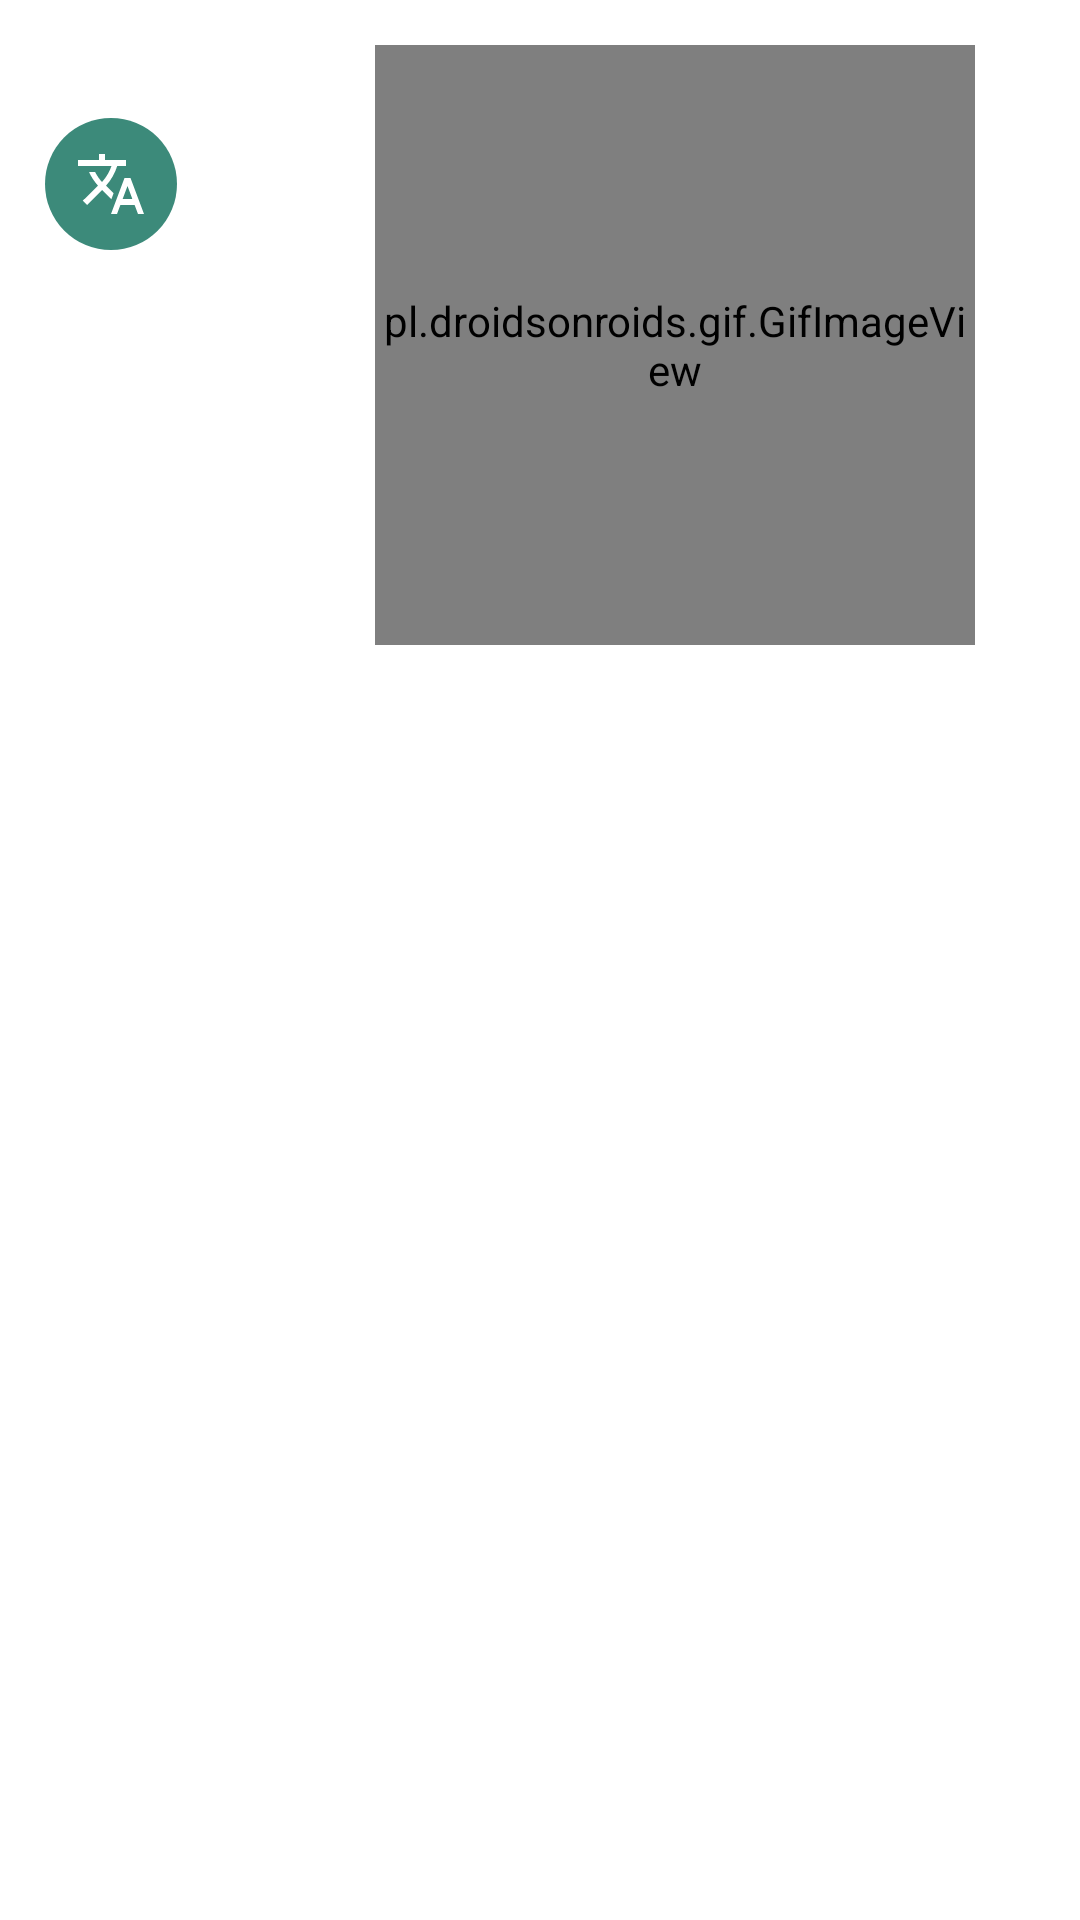

Screen size 1080 x 1920. Icon name, then its box in pixels as (x1, y1, x2, y2):
translate: (45, 118, 177, 250)
